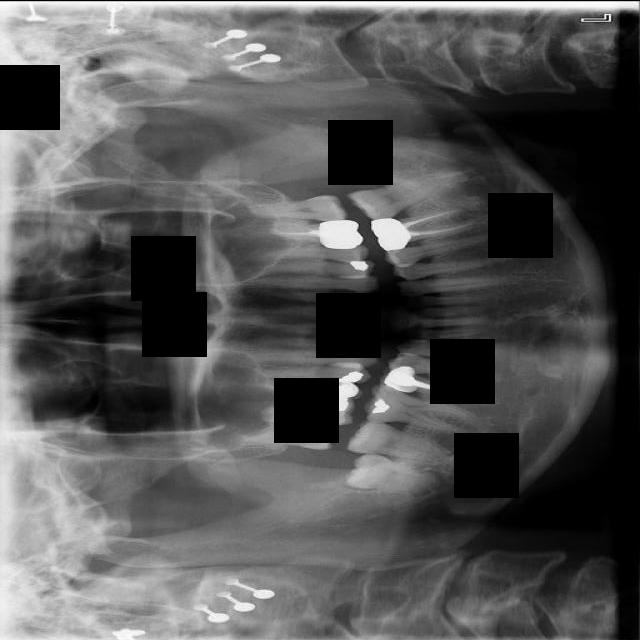52: (357, 375, 418, 435), (368, 208, 412, 257), (312, 391, 356, 426), (378, 362, 426, 393), (320, 217, 364, 250), (318, 374, 365, 402), (333, 361, 372, 382), (338, 258, 376, 278)
73: (399, 203, 478, 242), (413, 375, 491, 403), (245, 216, 324, 243), (264, 383, 321, 395), (523, 70, 541, 77)
BioHorizons Implant: (227, 189, 350, 222)
Blue Sky Bio Implant: (345, 174, 445, 226)
Caries: (232, 423, 339, 449)
Implant: (344, 415, 452, 462)
Keystone Dental Implant: (344, 450, 444, 494)
